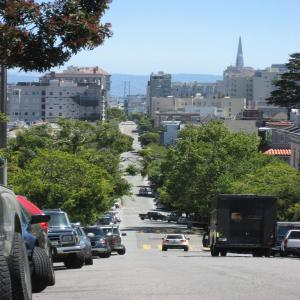Vehicle-registration-plate: (219, 239, 228, 242)
